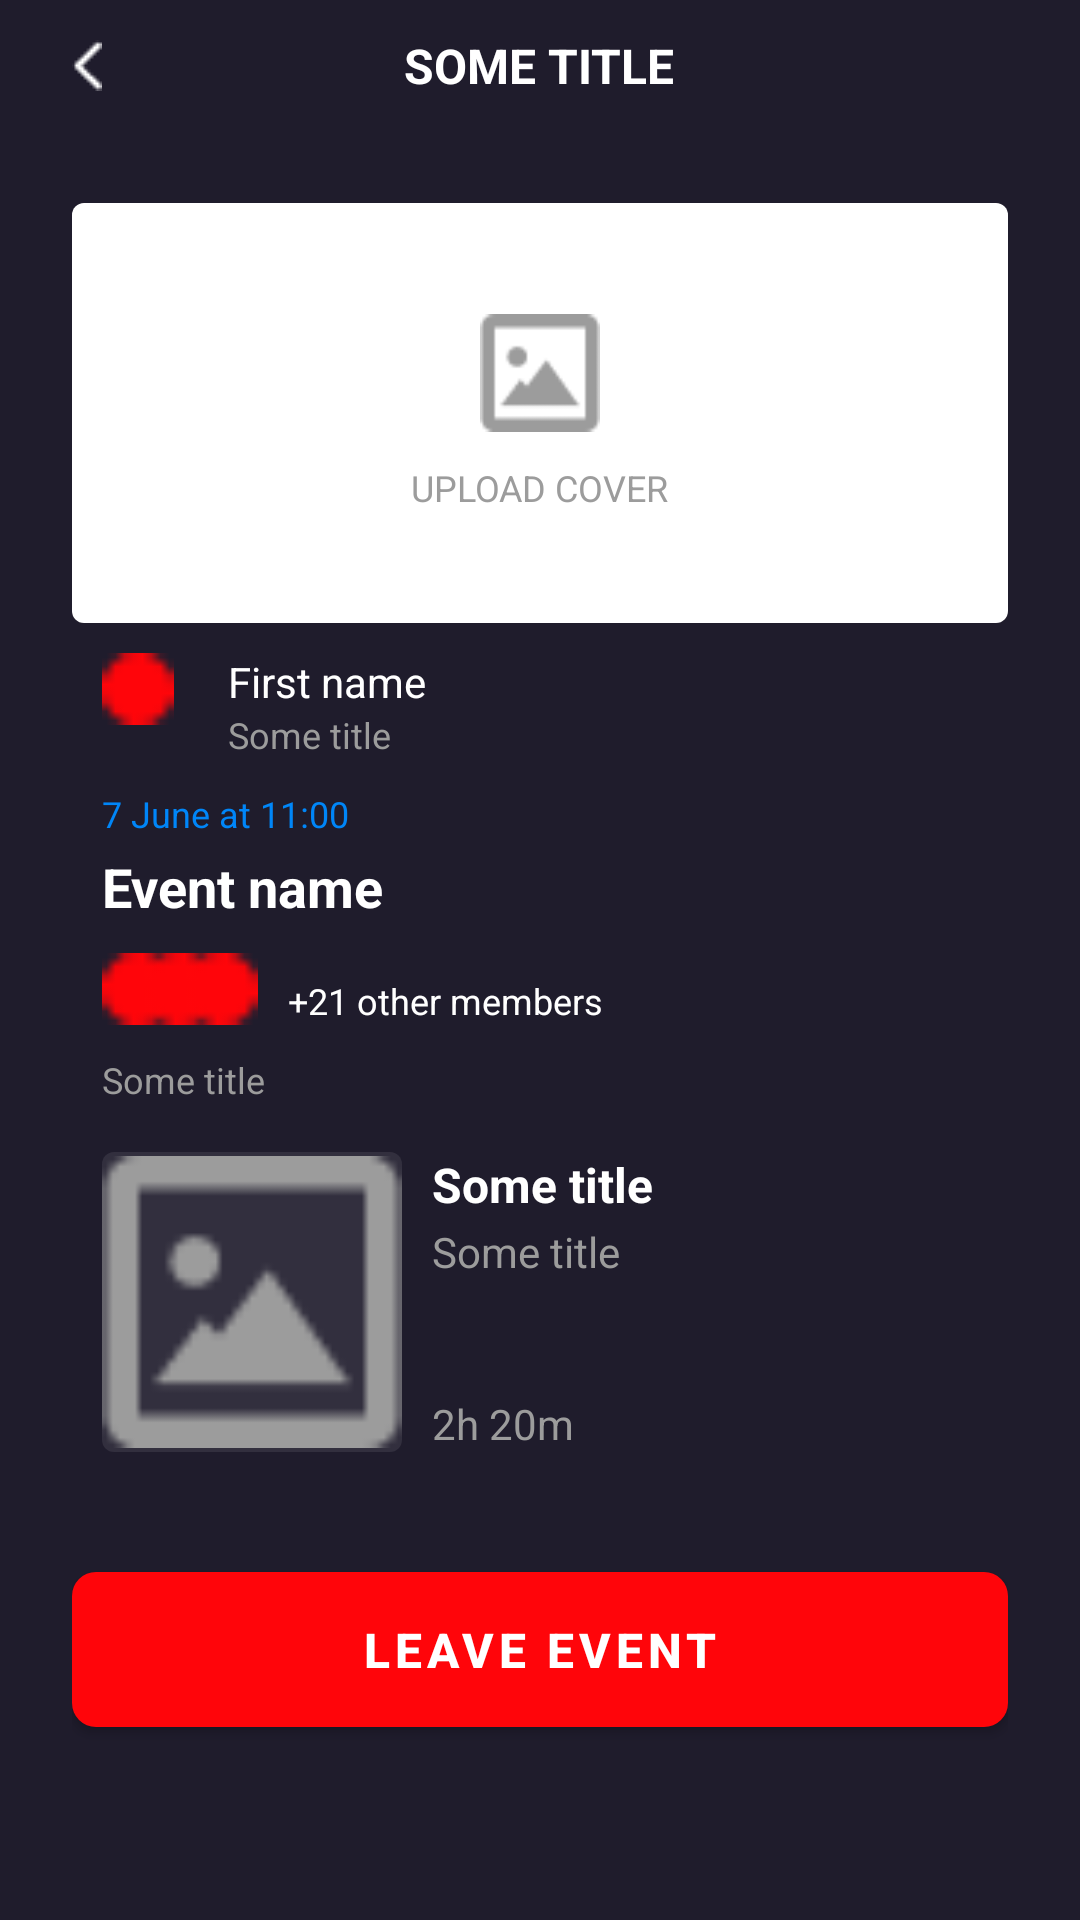

Locate icon controls on the screen. Image size 1080 x 1920, boxes as (x1, y1, x2, y2).
back: (74, 42, 102, 91)
